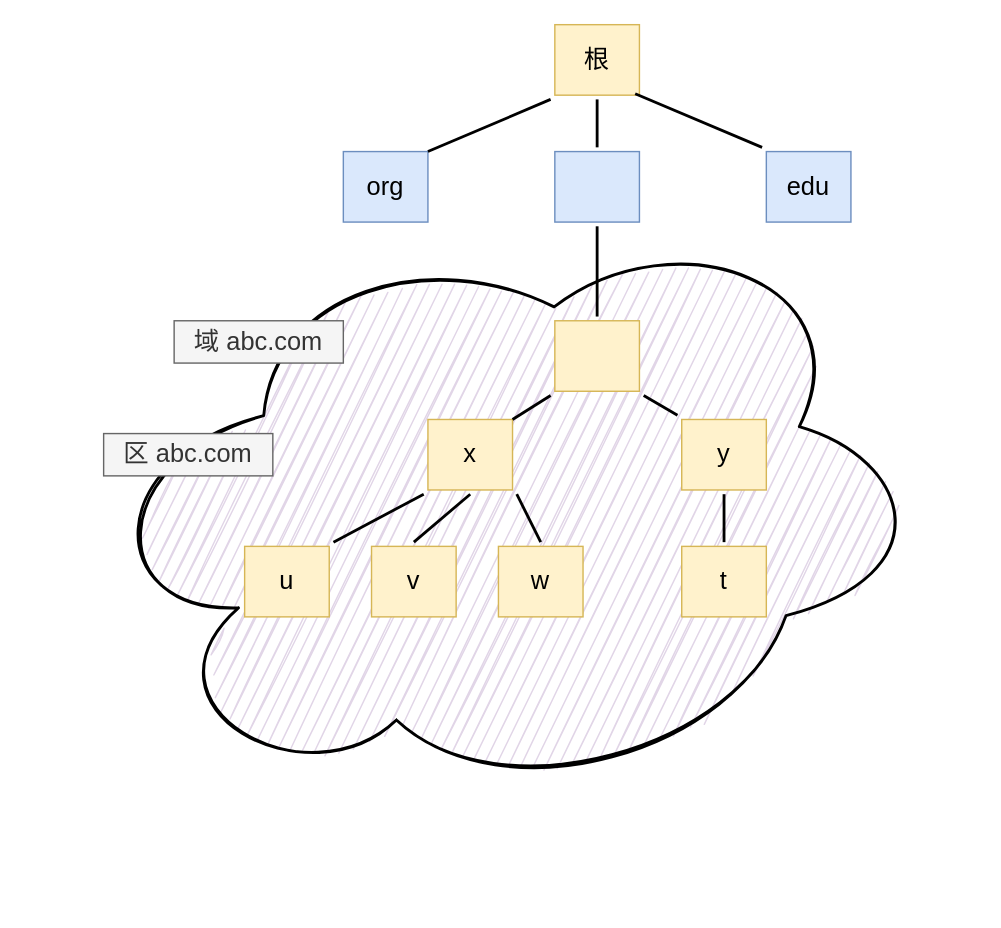
Some shapes in this 1001 by 928 pixel diagram are drawn without their labels. Here are the shapes that lost their labels. From the top down, the centre of each, then its label:
At [596,186]: "com".
At [596,355]: "abc".
